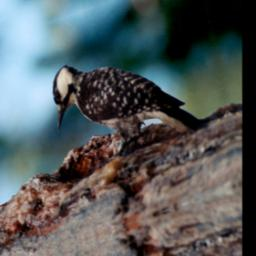Woodpecker: (41, 7, 214, 185)
